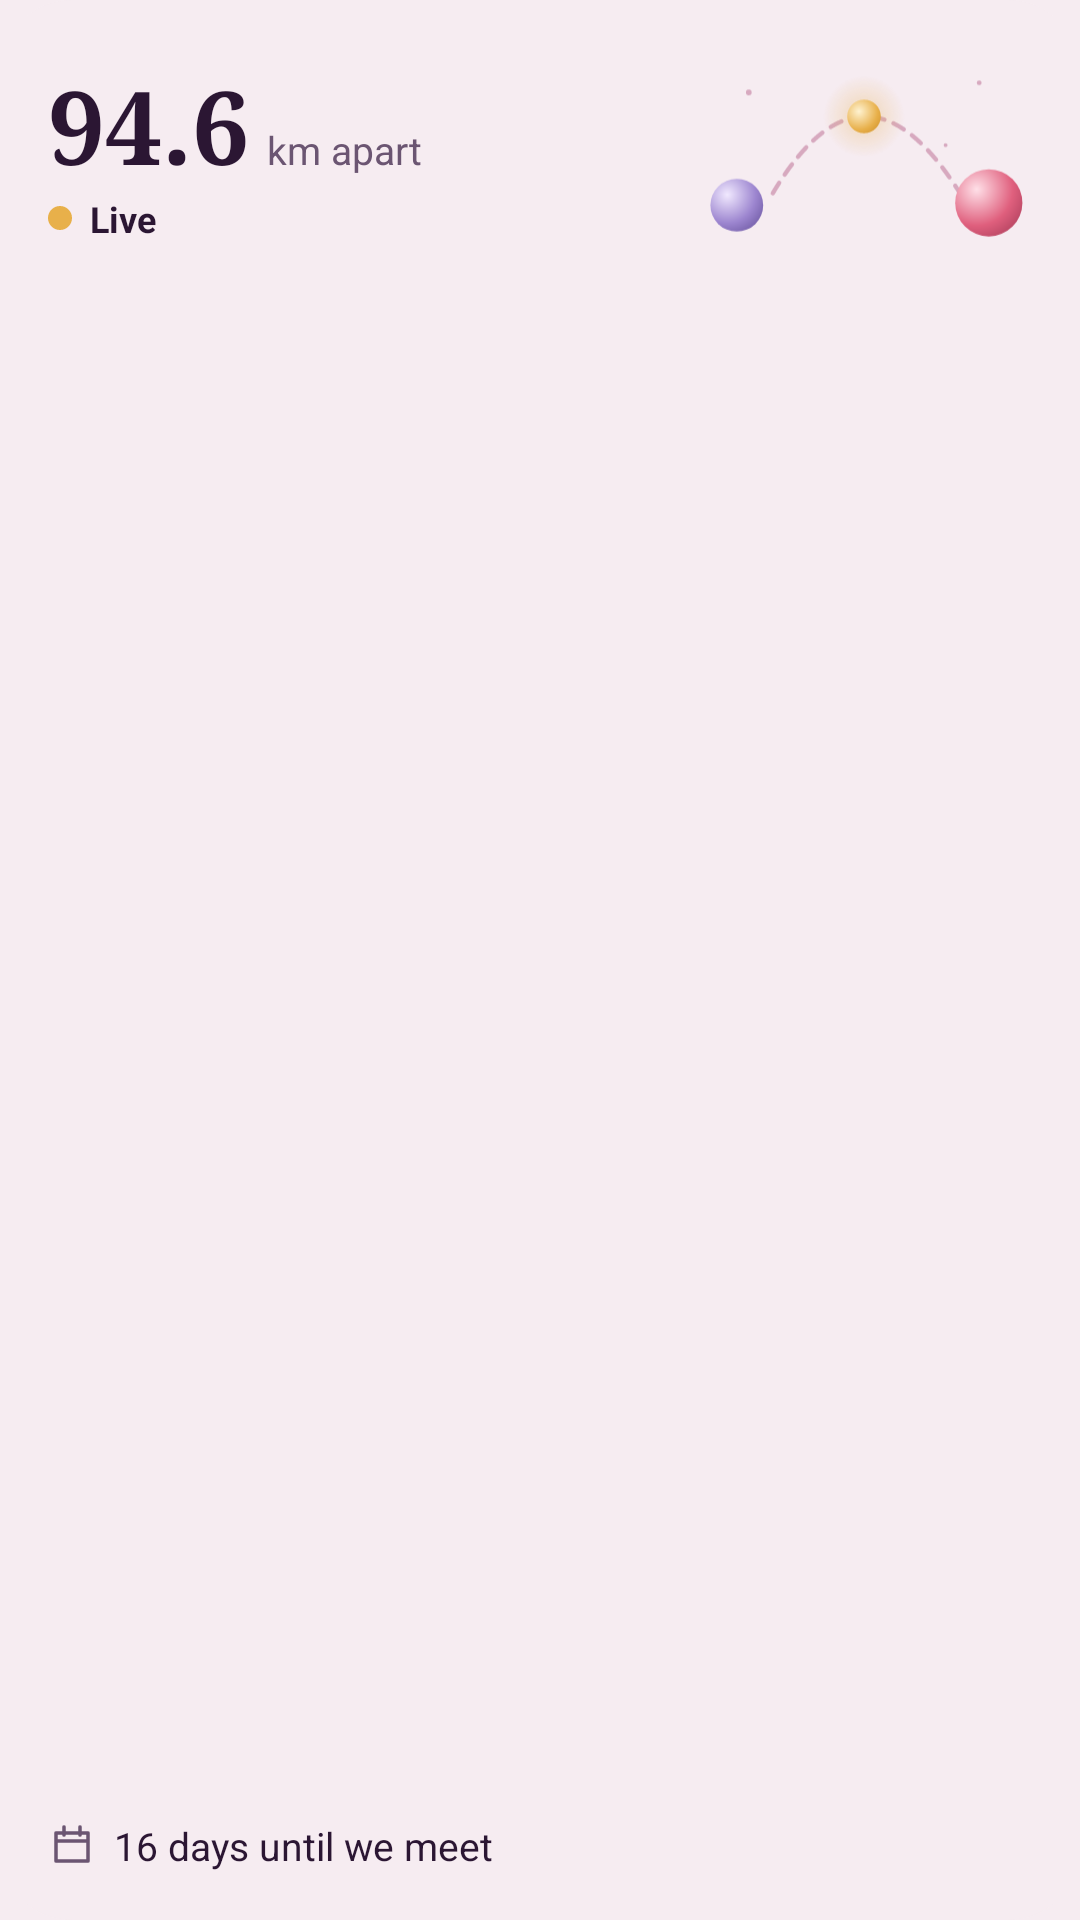

Icon bounding boxes for this 1080w x 1920h phone screenshot, format (x1, y1, x2, y2):
widget orbit medium: (710, 80, 1023, 237)
